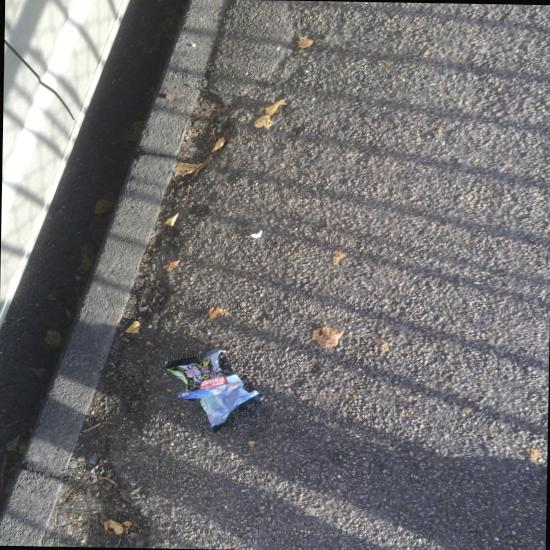Plastic film: (163, 346, 264, 434)
